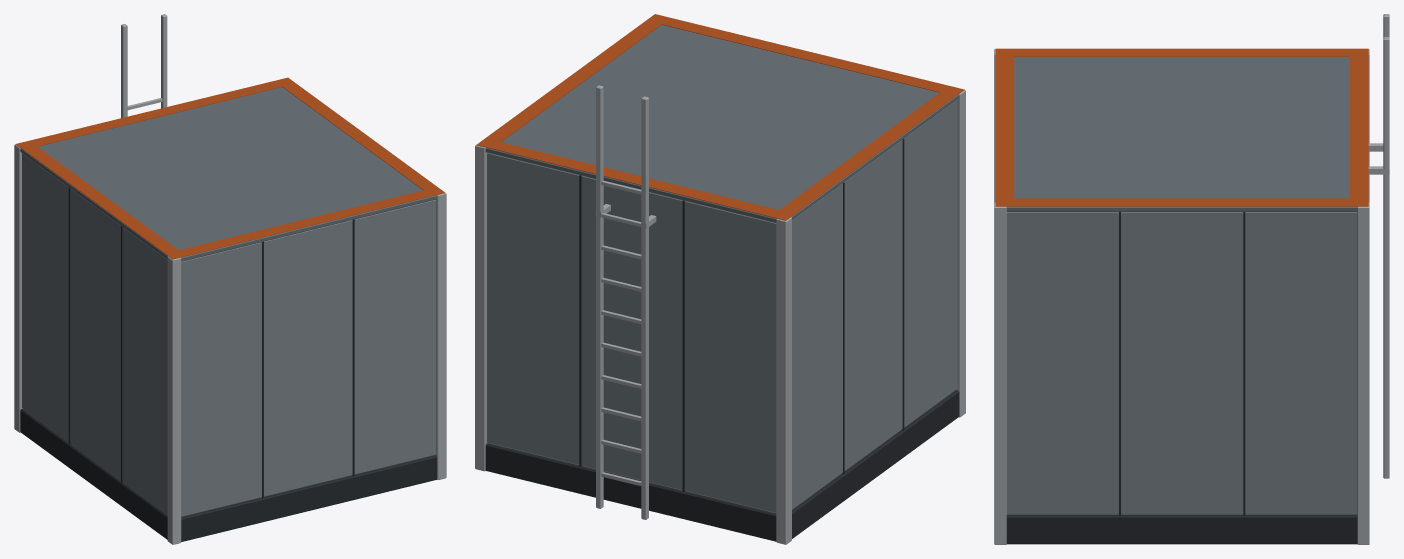
3 renders of one model, left to right at view 1: azimuth 30°, elevation 25°; view 2: azimuth 150°, elevation 25°; view 3: azimuth 270°, elevation 25°, orthographic. The views are drawn at different scales.
Parts seen in each view (by area): view 1: TY_PF_3; view 2: TY_PF_3; view 3: TY_PF_3.
Boxes of the visible parts, x1,y1,x2,y2 form: TY_PF_3: [14, 14, 446, 544]; TY_PF_3: [475, 14, 965, 544]; TY_PF_3: [994, 14, 1389, 544].
Bounding box in the file's own units: 3.02 × 3.9 × 3.18.
